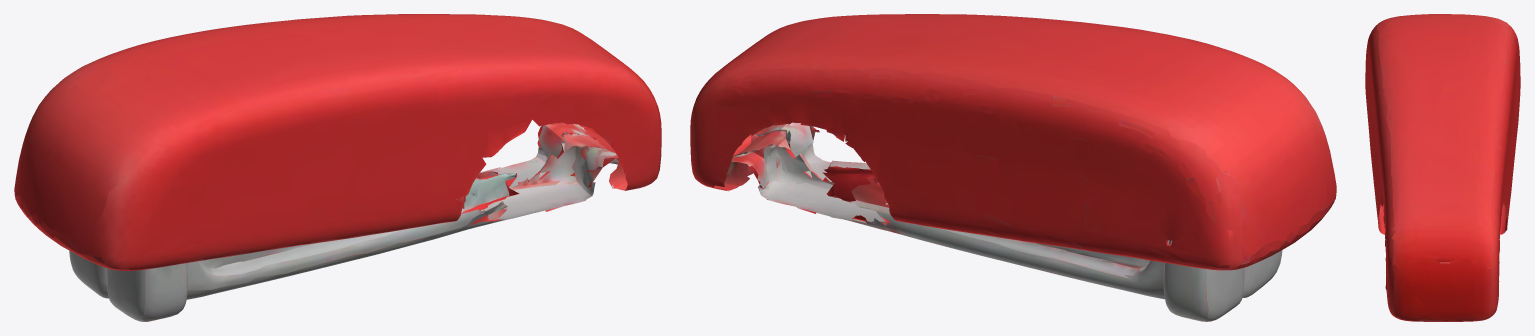
File: top_arm.glb
The picture shows the model from 3 angles, left to right: view 1: azimuth 30°, elevation 25°; view 2: azimuth 150°, elevation 25°; view 3: azimuth 270°, elevation 25°; orthographic projection. The views are drawn at different scales.
Parts seen in each view (by area): view 1: world; view 2: world; view 3: world.
Boxes of the visible parts, box(x1,y1,x2,y2) form: world: box(14, 14, 661, 321); world: box(690, 14, 1336, 321); world: box(1365, 14, 1520, 321).
Bounding box in the file's own units: 0.1213 × 0.0422 × 0.0393.
1 material, 1 textured.
